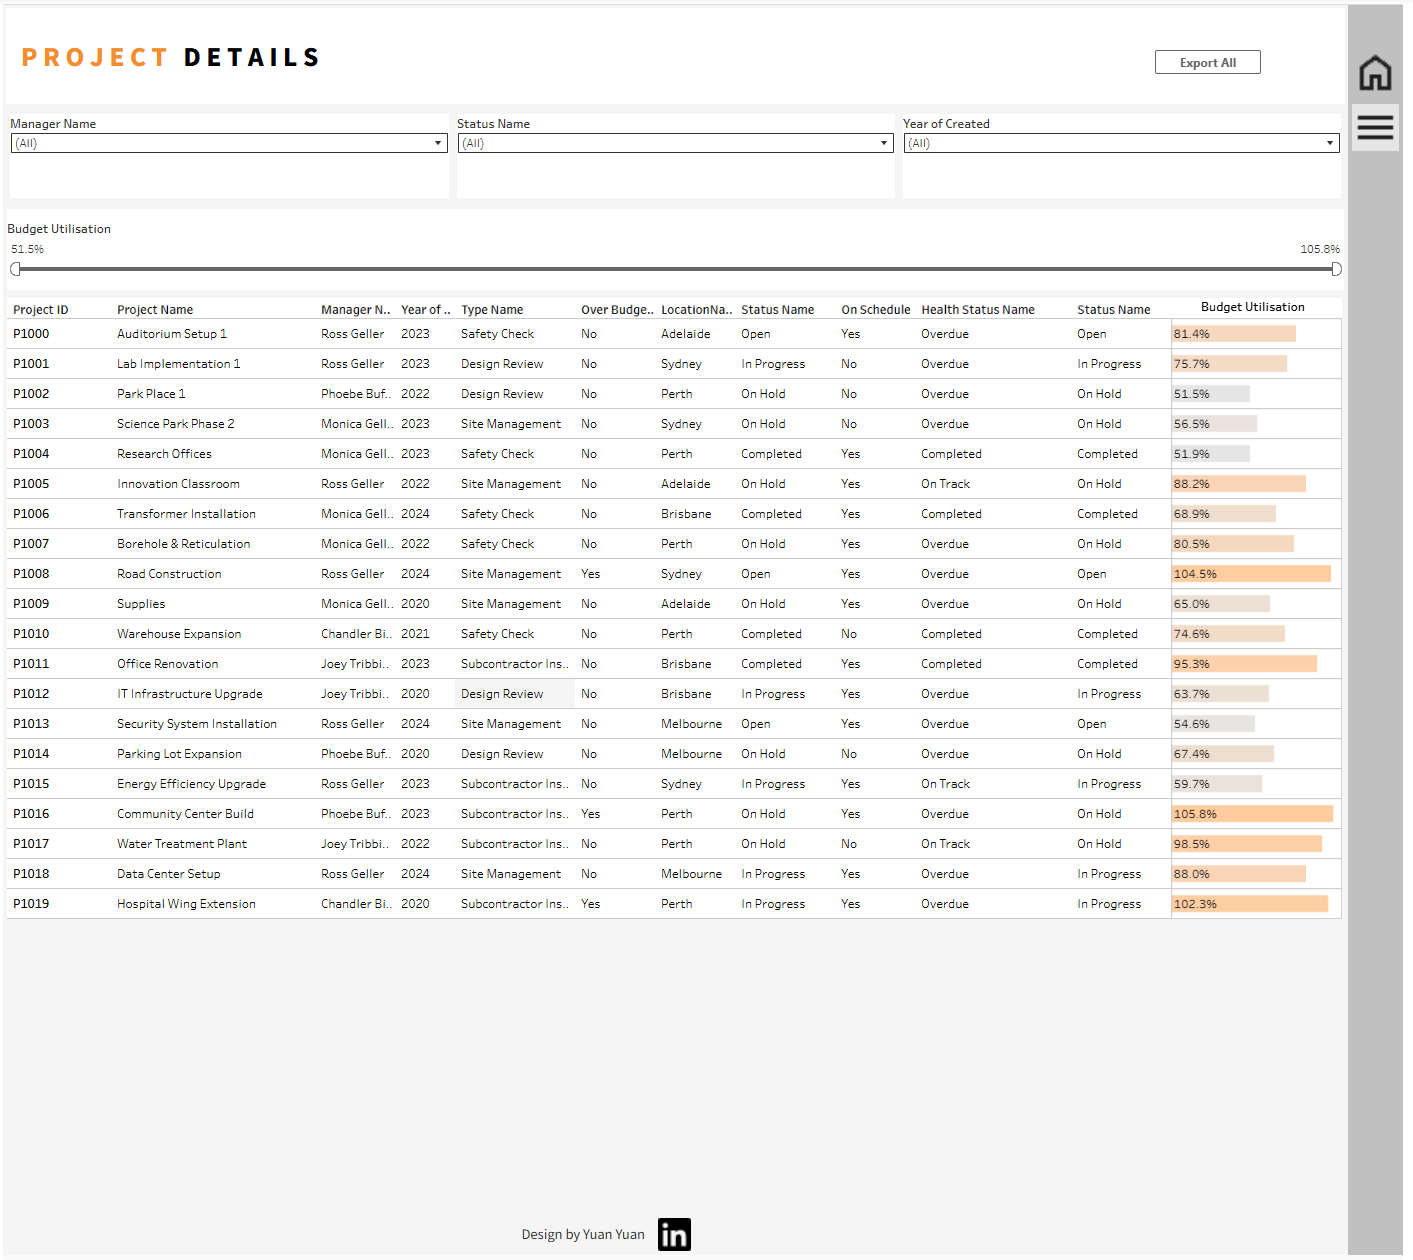

The dashboard page shown, as its layout file describes it:
{"tool":"tableau","page":{"name":"Project Details","canvas":[1400,1250],"ordinal":1},"visuals":[{"type":"blank","box":[1345,0,55,40]},{"type":"text","box":[13,23,1319,54]},{"type":"dashboard-object","box":[1345,40,55,55]},{"type":"dashboard-object","param":"[com.theinformationlab.extensions.exportall].[1.0.0].[https://exportallextension","box":[1152,45,184,56]},{"type":"dashboard-object","box":[1345,95,55,55]},{"type":"filter","title":"Details Sheet","param":"[federated.1anuffa13srnjd118inku1qs1cig].[none:ManagerName:nk]","box":[3,105,447,92]},{"type":"filter","title":"Details Sheet","param":"[federated.1anuffa13srnjd118inku1qs1cig].[none:StatusName:nk]","box":[450,105,446,92]},{"type":"filter","title":"Details Sheet","param":"[federated.1anuffa13srnjd118inku1qs1cig].[yr:Created:ok]","box":[896,105,446,92]},{"type":"blank","box":[1345,150,55,1100]},{"type":"filter","title":"Details Sheet","param":"[federated.1anuffa13srnjd118inku1qs1cig].[none:Calculation_486388782565367812:qk","box":[0,200,1345,89]},{"type":"text","box":[1164,288,172,26]},{"type":"worksheet","title":"Details Sheet","mark":"Bar","rows":["ProjectID","Project Name","ManagerName","Created","TypeName","Calculation_486388782565494789","LocationName","StatusName","OnSchedule","HealthStatusName","StatusName"],"box":[0,289,1345,676]},{"type":"blank","box":[0,1209,416.2,41]},{"type":"worksheet","title":"Design by Yuan Yuan","mark":"Automatic","box":[416.2,1209,234.4,41]},{"type":"image","param":"Image/linkedin.png","box":[650.6,1209,210.6,41]},{"type":"blank","box":[861.2,1209,483.8,41]}]}

Visuals, with their boxes in screenshot pixels (x1, y1, x2, y2), scaled from the page's 1400x1250 canvas onto the 1413x1260 screenshot:
blank: [left=1357, top=0, right=1412, bottom=40]
text: [left=13, top=23, right=1344, bottom=78]
dashboard-object: [left=1357, top=40, right=1412, bottom=96]
dashboard-object: [left=1163, top=45, right=1348, bottom=102]
dashboard-object: [left=1357, top=96, right=1412, bottom=151]
"Details Sheet" filter: [left=3, top=106, right=454, bottom=199]
"Details Sheet" filter: [left=454, top=106, right=904, bottom=199]
"Details Sheet" filter: [left=904, top=106, right=1354, bottom=199]
blank: [left=1357, top=151, right=1412, bottom=1259]
"Details Sheet" filter: [left=0, top=202, right=1357, bottom=291]
text: [left=1175, top=290, right=1348, bottom=317]
"Details Sheet" worksheet (Bar marks): [left=0, top=291, right=1357, bottom=973]
blank: [left=0, top=1219, right=420, bottom=1259]
"Design by Yuan Yuan" worksheet: [left=420, top=1219, right=657, bottom=1259]
image: [left=657, top=1219, right=869, bottom=1259]
blank: [left=869, top=1219, right=1357, bottom=1259]
